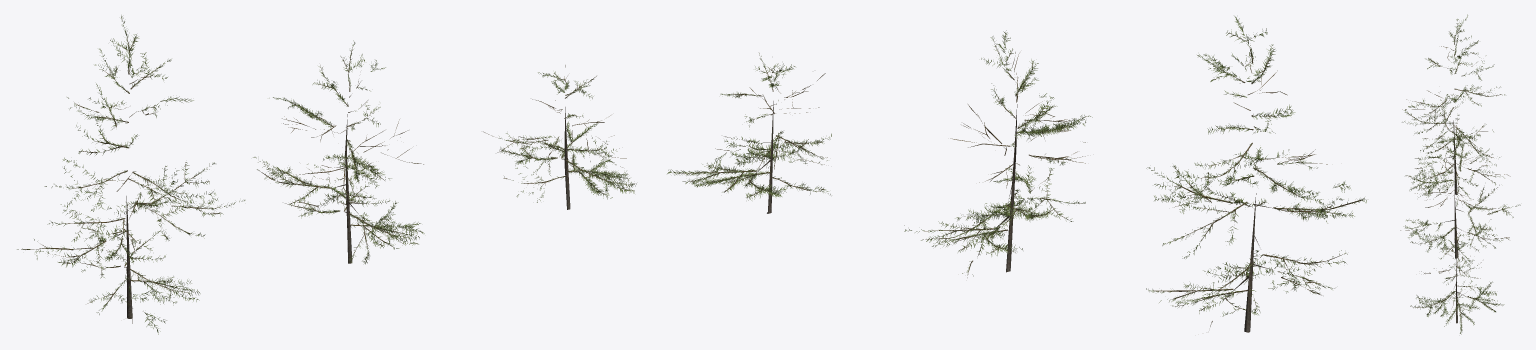
The model's file is pine.glb.
The picture shows the model from 3 angles, left to right: view 1: azimuth 30°, elevation 25°; view 2: azimuth 150°, elevation 25°; view 3: azimuth 270°, elevation 25°; orthographic projection. The views are drawn at different scales.
Visible parts, largest first — view 1: fir_sapling_a, fir_sapling_b, fir_sapling_c; view 2: fir_sapling_a, fir_sapling_b, fir_sapling_c; view 3: fir_sapling_a, fir_sapling_b, fir_sapling_c.
Part boxes in pixels (<box>): fir_sapling_a: <box>17,15,245,334</box>; fir_sapling_b: <box>253,40,424,264</box>; fir_sapling_c: <box>483,65,636,209</box>; fir_sapling_a: <box>1146,16,1366,332</box>; fir_sapling_b: <box>904,30,1092,277</box>; fir_sapling_c: <box>667,53,831,213</box>; fir_sapling_a: <box>1402,14,1510,206</box>; fir_sapling_b: <box>1400,128,1520,270</box>; fir_sapling_c: <box>1410,233,1504,334</box>.
Size of the model in its own units: 2.74 by 1.3 by 0.807.
Materials: 2 (2 with a texture image).
